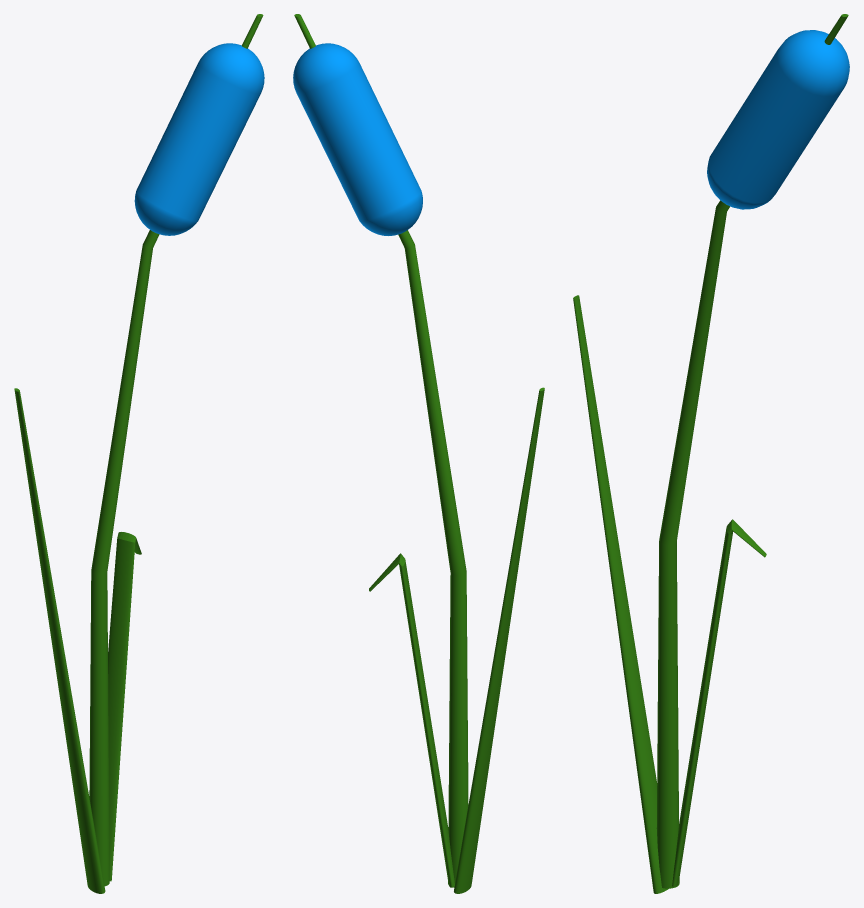
File: CattailColored3.fbx
3 renders of one model, left to right at view 1: azimuth 30°, elevation 25°; view 2: azimuth 150°, elevation 25°; view 3: azimuth 330°, elevation 25°, orthographic. The views are drawn at different scales.
Visible parts, largest first — view 1: pCylinder11; view 2: pCylinder11; view 3: pCylinder11.
Boxes of the visible parts, bbox=[...] form: pCylinder11: bbox=[14, 14, 264, 893]; pCylinder11: bbox=[293, 14, 544, 893]; pCylinder11: bbox=[573, 14, 849, 893].
Bounding box in the file's own units: 6.38 × 20.48 × 1.96.
